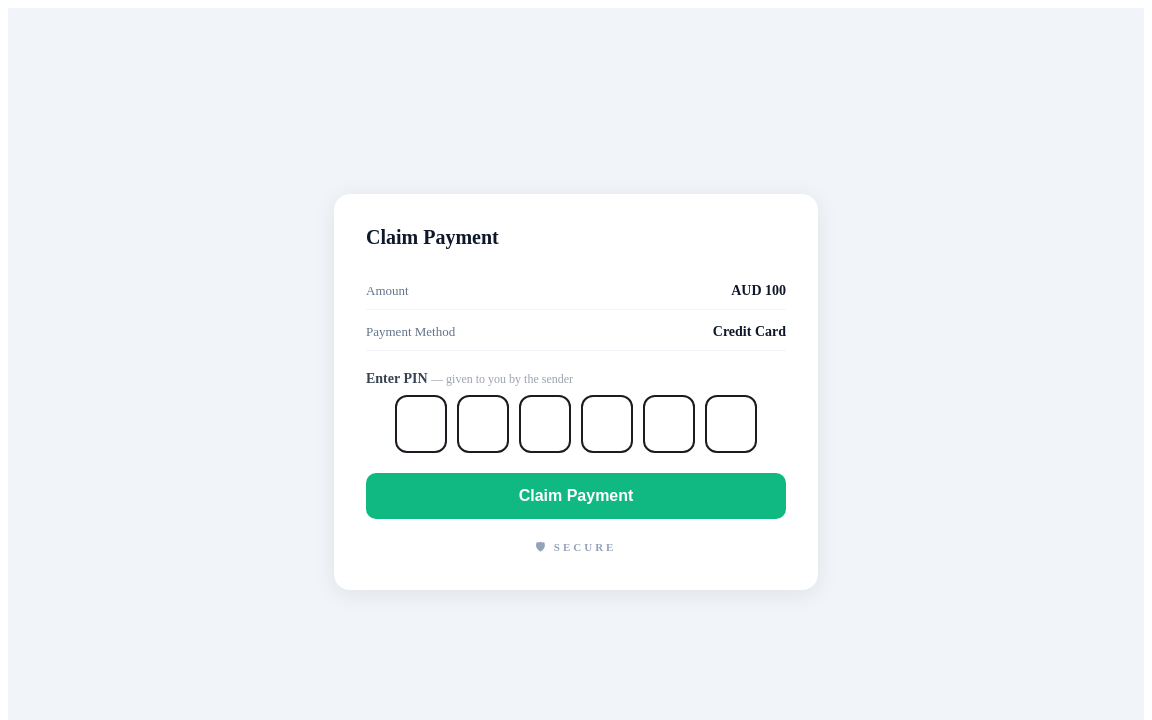
Scenario: ClaimPaymentLink › shows already-claimed message on 409
Type "4" into the 1st field.
click(421, 424); type("4")  # box [395, 395, 447, 453]
Type "8" into the 2nd field.
click(483, 424); type("8")  # box [457, 395, 509, 453]
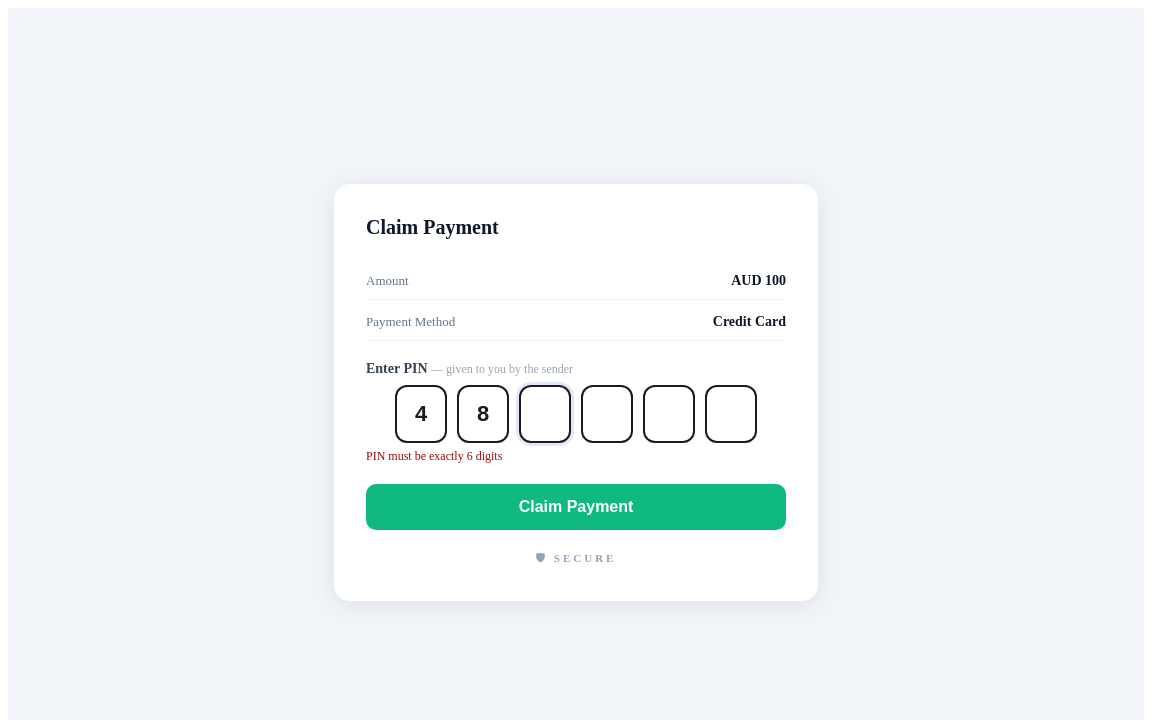
Type "2" into the 3rd field.
click(545, 414); type("2")  # box [519, 384, 571, 442]
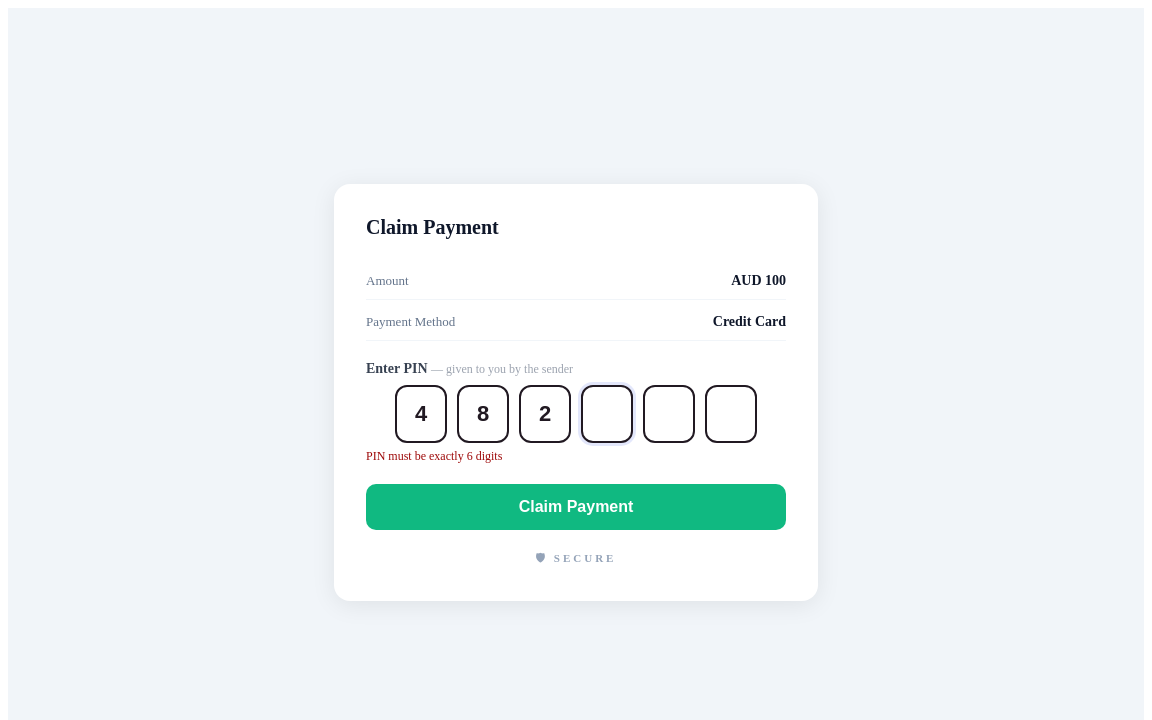
Type "9" into the 4th field.
click(607, 414); type("9")  # box [581, 384, 633, 442]
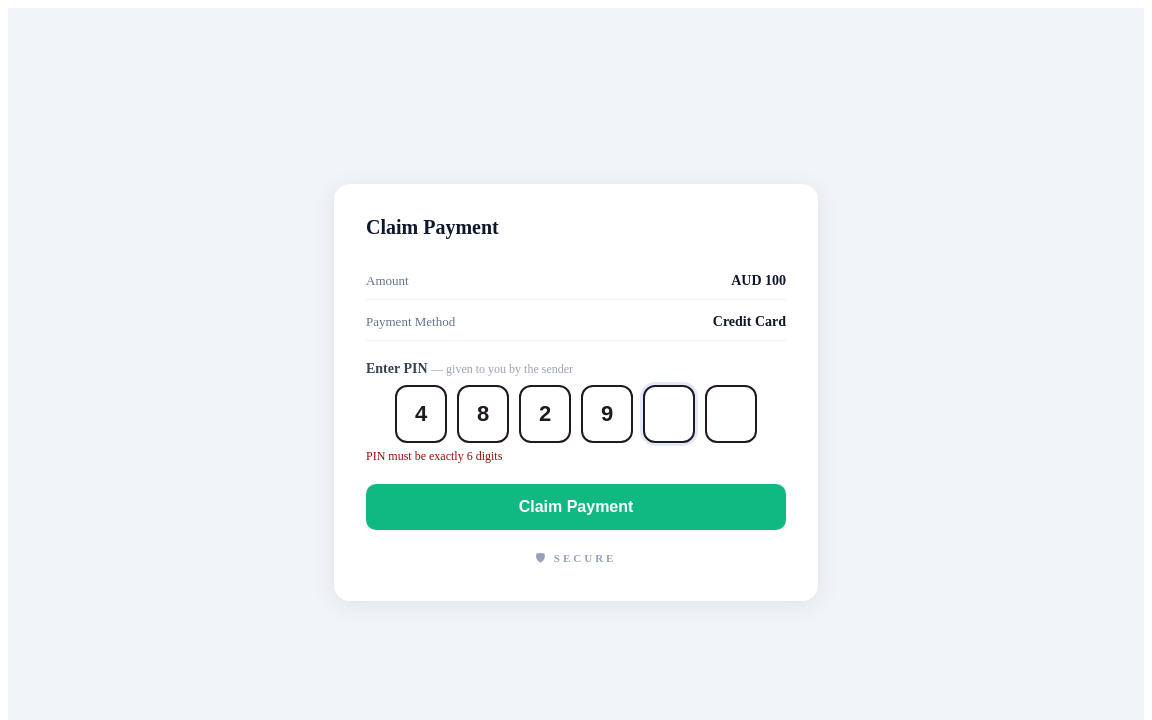
Type "1" into the 5th field.
click(669, 414); type("1")  # box [643, 384, 695, 442]
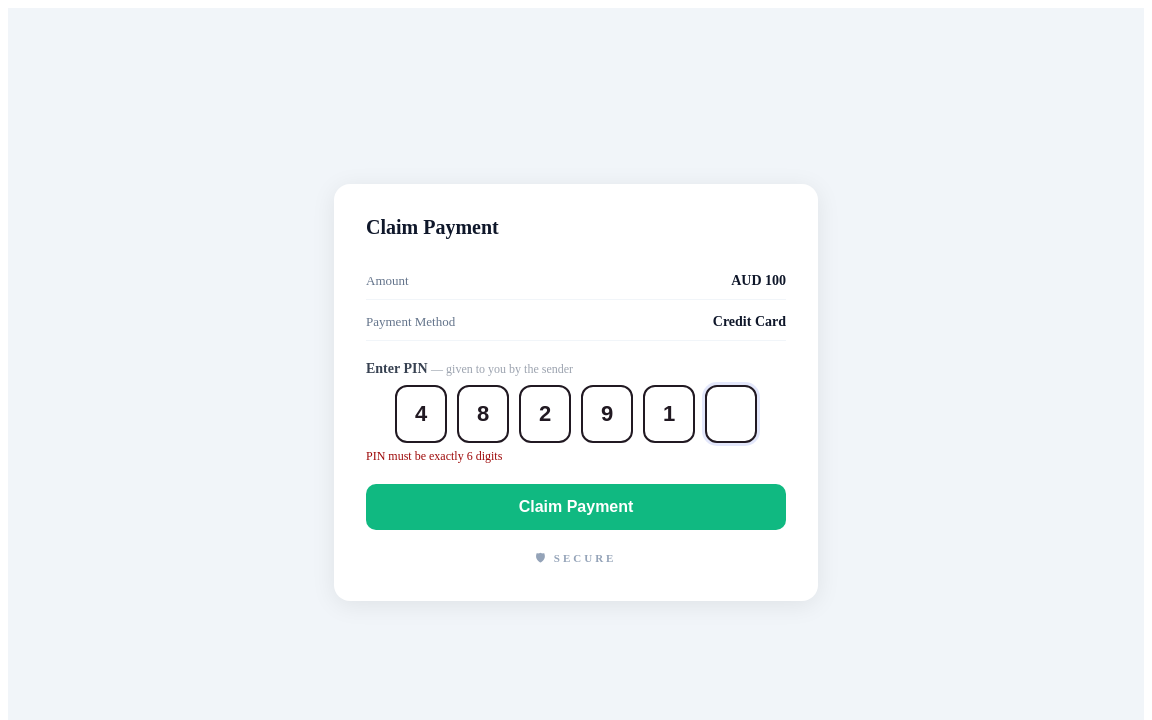
Type "6" into the 6th field.
click(731, 414); type("6")  # box [705, 384, 757, 442]
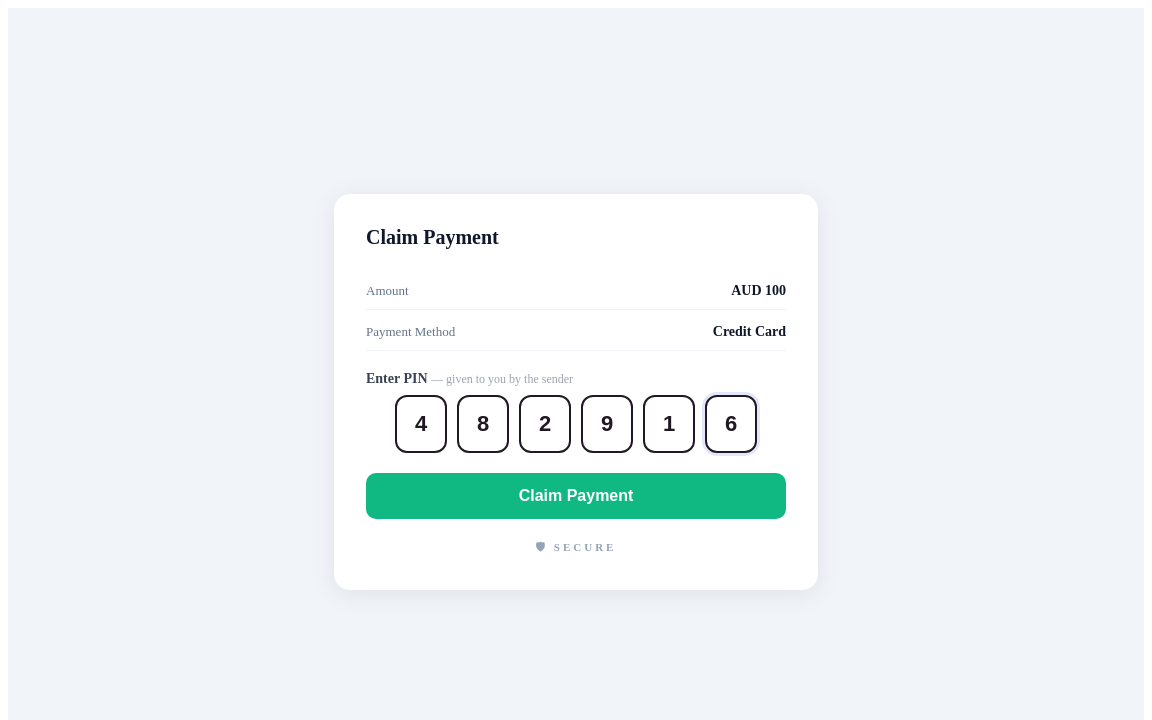
Click the button "Claim Payment".
click(576, 496)  # box [366, 473, 786, 519]
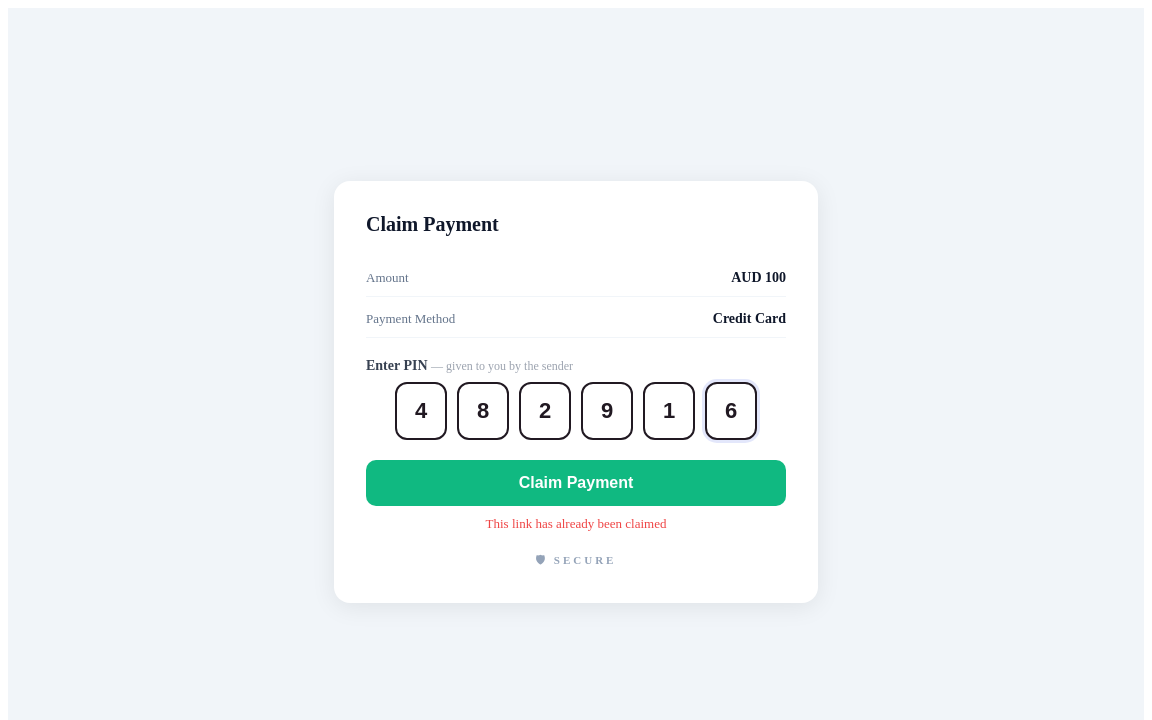
Now the text "already been claimed" is shown, box [486, 516, 666, 531]
